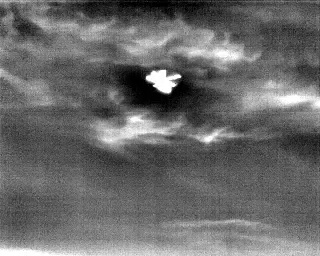HELICOPTER: (143, 64, 185, 99)
